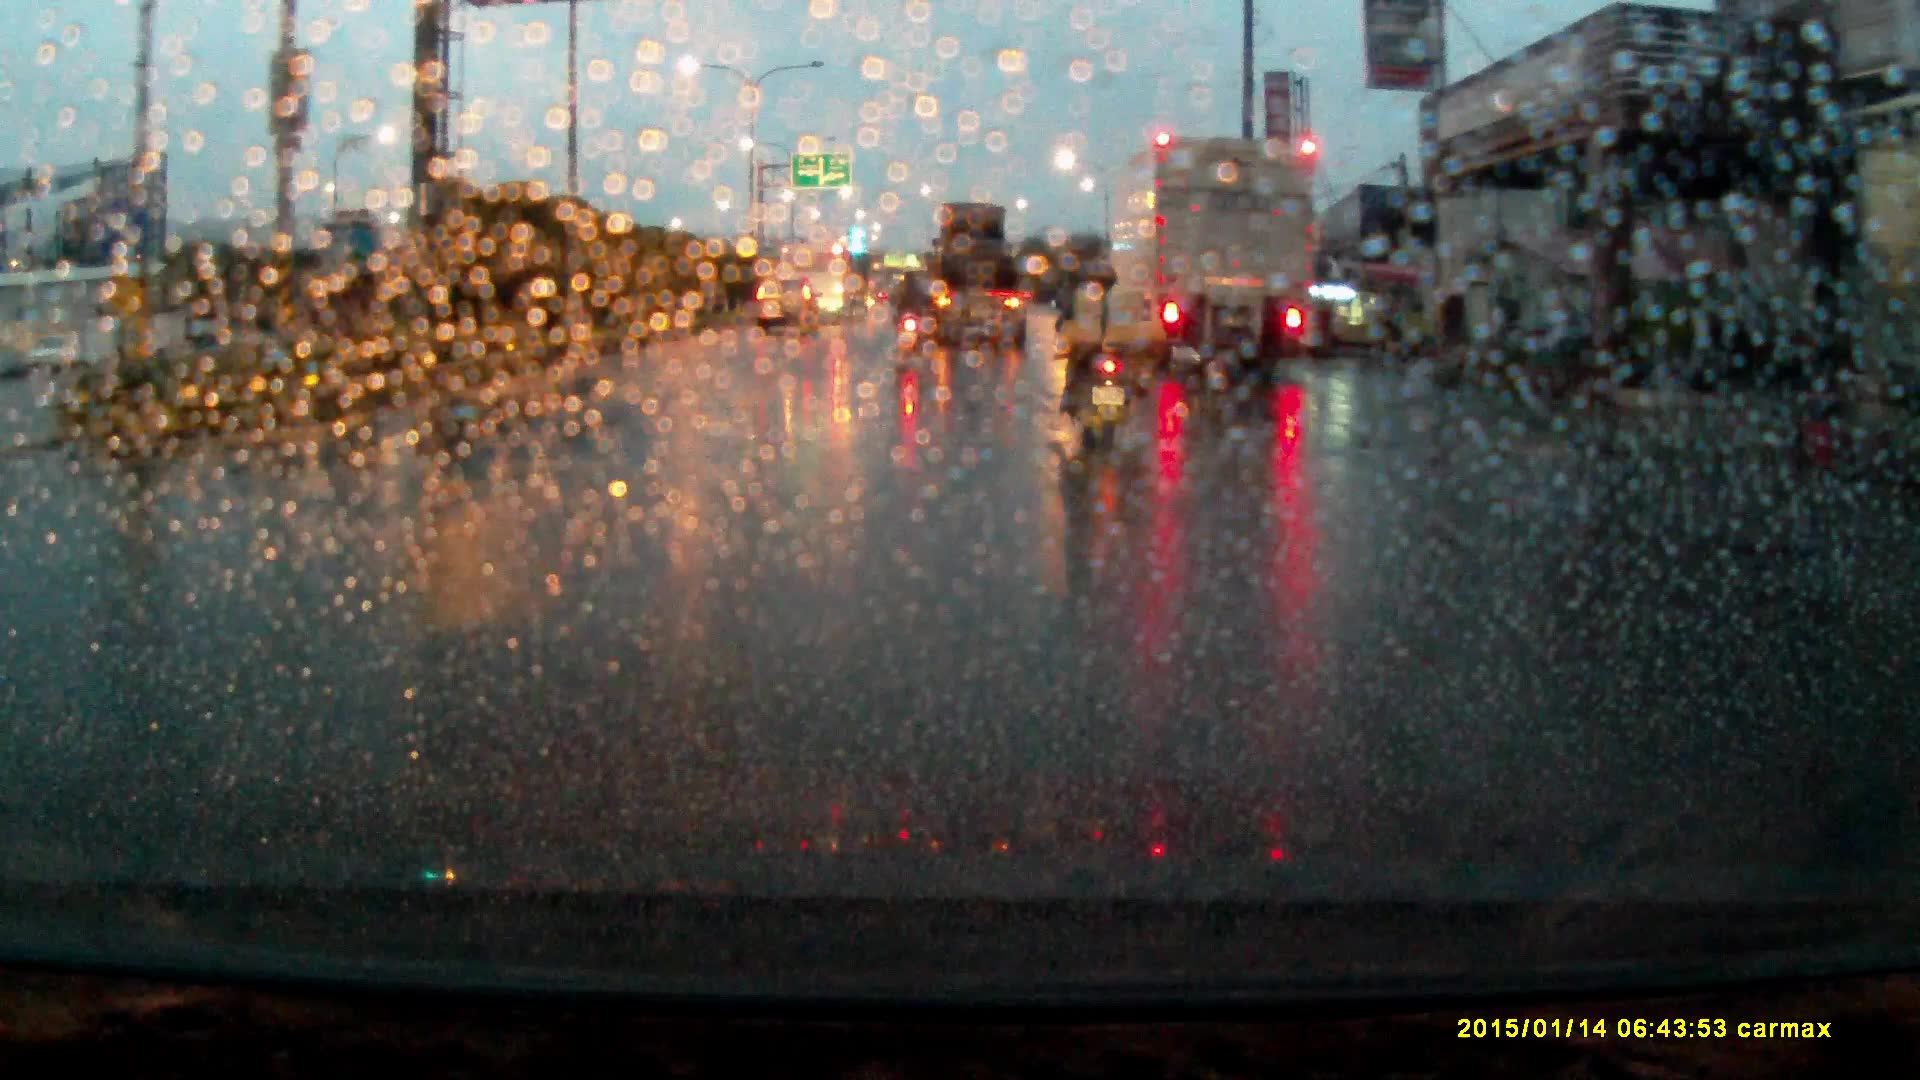rider: (1056, 255, 1141, 453), (891, 268, 931, 359)
vehicle: (1102, 136, 1320, 385), (921, 210, 1030, 363), (783, 244, 858, 327), (753, 285, 825, 351)
